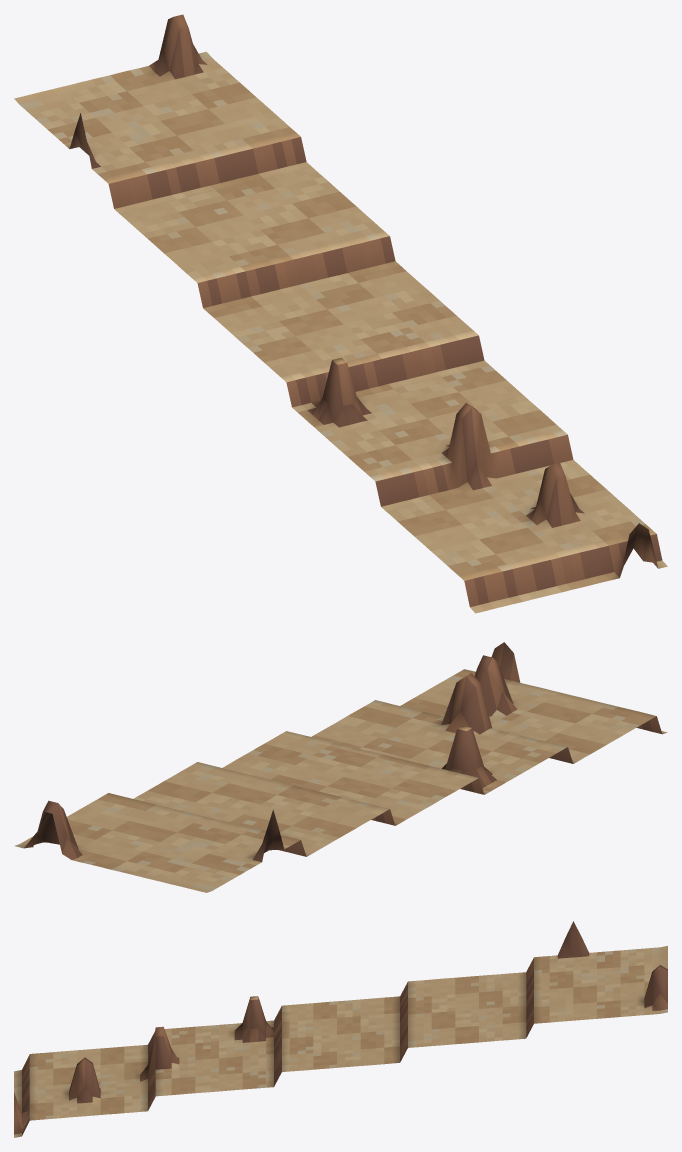
Rendered from isle_ride_slickrock.glb.
3 renders of one model, top to bottom at view 1: azimuth 30°, elevation 25°; view 2: azimuth 150°, elevation 25°; view 3: azimuth 270°, elevation 25°, orthographic. The views are drawn at different scales.
Visible parts, largest first — view 1: isle_ride_slickrock; view 2: isle_ride_slickrock; view 3: isle_ride_slickrock.
Part boxes in pixels (x1,y1,x2,y2): isle_ride_slickrock: [14, 14, 667, 613]; isle_ride_slickrock: [15, 642, 667, 892]; isle_ride_slickrock: [14, 921, 667, 1137].
Size of the model in its own units: 40 by 44.77 by 166.
